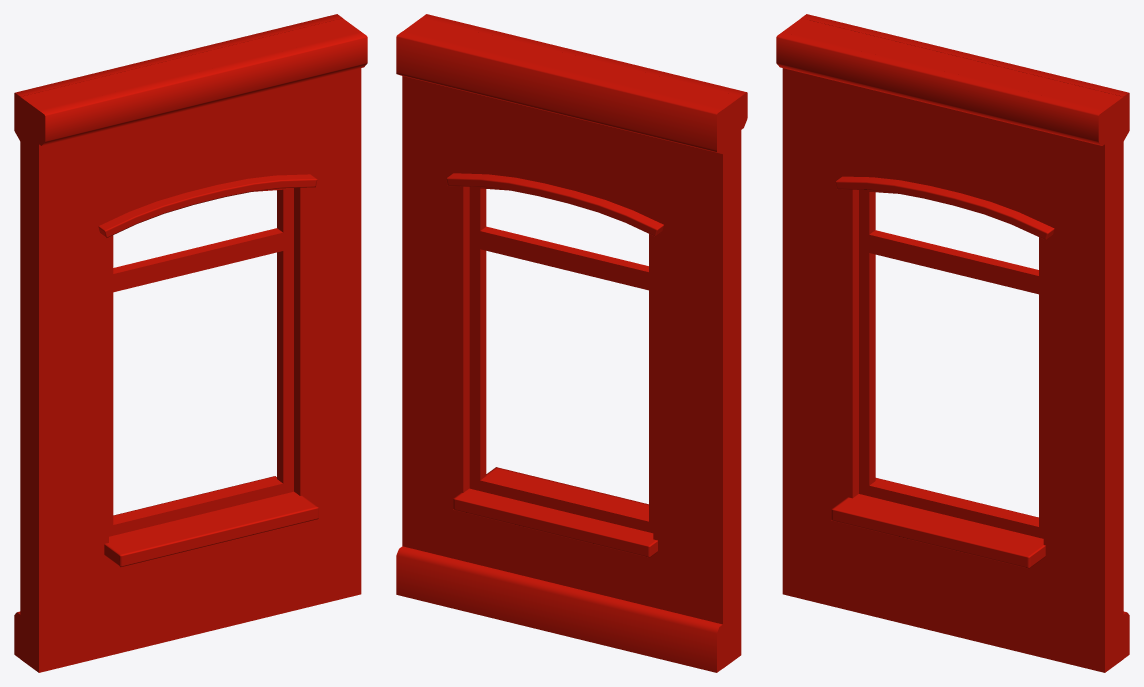
File: IndBuilding1_Wall_Mid_B.fbx
3 renders of one model, left to right at view 1: azimuth 30°, elevation 25°; view 2: azimuth 150°, elevation 25°; view 3: azimuth 330°, elevation 25°, orthographic.
Parts seen in each view (by area): view 1: IndBuilding1_Wall_Mid_B; view 2: IndBuilding1_Wall_Mid_B; view 3: IndBuilding1_Wall_Mid_B.
Part boxes in pixels (bbox=[...]): IndBuilding1_Wall_Mid_B: bbox=[14, 14, 367, 672]; IndBuilding1_Wall_Mid_B: bbox=[396, 14, 747, 672]; IndBuilding1_Wall_Mid_B: bbox=[776, 14, 1129, 672].
Bounding box in the file's own units: 3 × 5 × 0.7.
